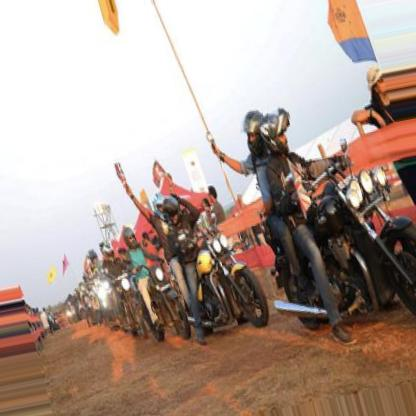with helmet: (261, 108, 293, 154), (244, 106, 269, 155), (123, 225, 138, 247)
